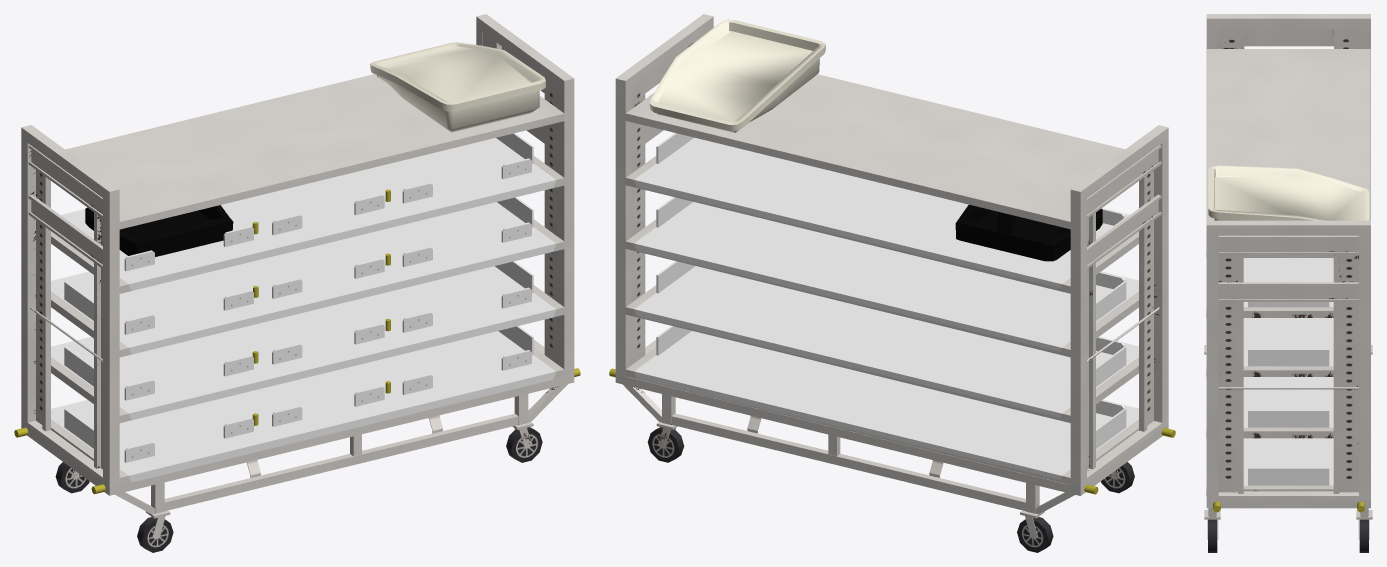
The model's file is yunshu02.FBX.
3 views of the same model, side by side, from view 1: azimuth 30°, elevation 25°; view 2: azimuth 150°, elevation 25°; view 3: azimuth 270°, elevation 25° (orthographic). The views are drawn at different scales.
Visible parts, largest first — view 1: YF_Model_yunshu02; view 2: YF_Model_yunshu02; view 3: YF_Model_yunshu02.
Part boxes in pixels (<box>): YF_Model_yunshu02: <box>14,14,580,552</box>; YF_Model_yunshu02: <box>609,14,1175,552</box>; YF_Model_yunshu02: <box>1204,14,1372,552</box>.
Size of the model in its own units: 146 by 108 by 47.11.
